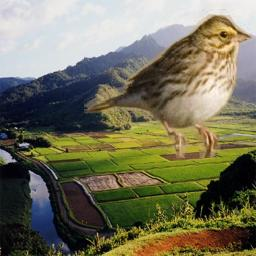Sparrow: (85, 10, 254, 159)
